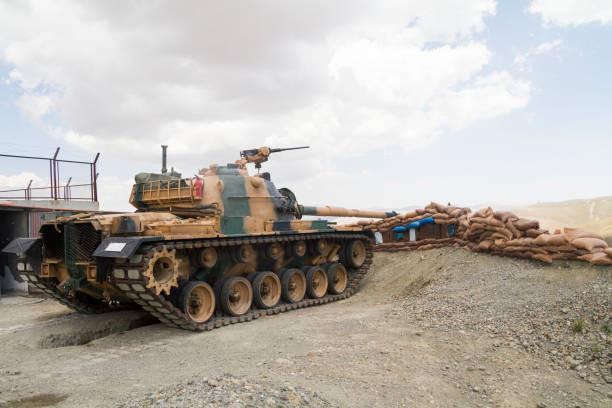tank: (2, 164, 396, 330)
